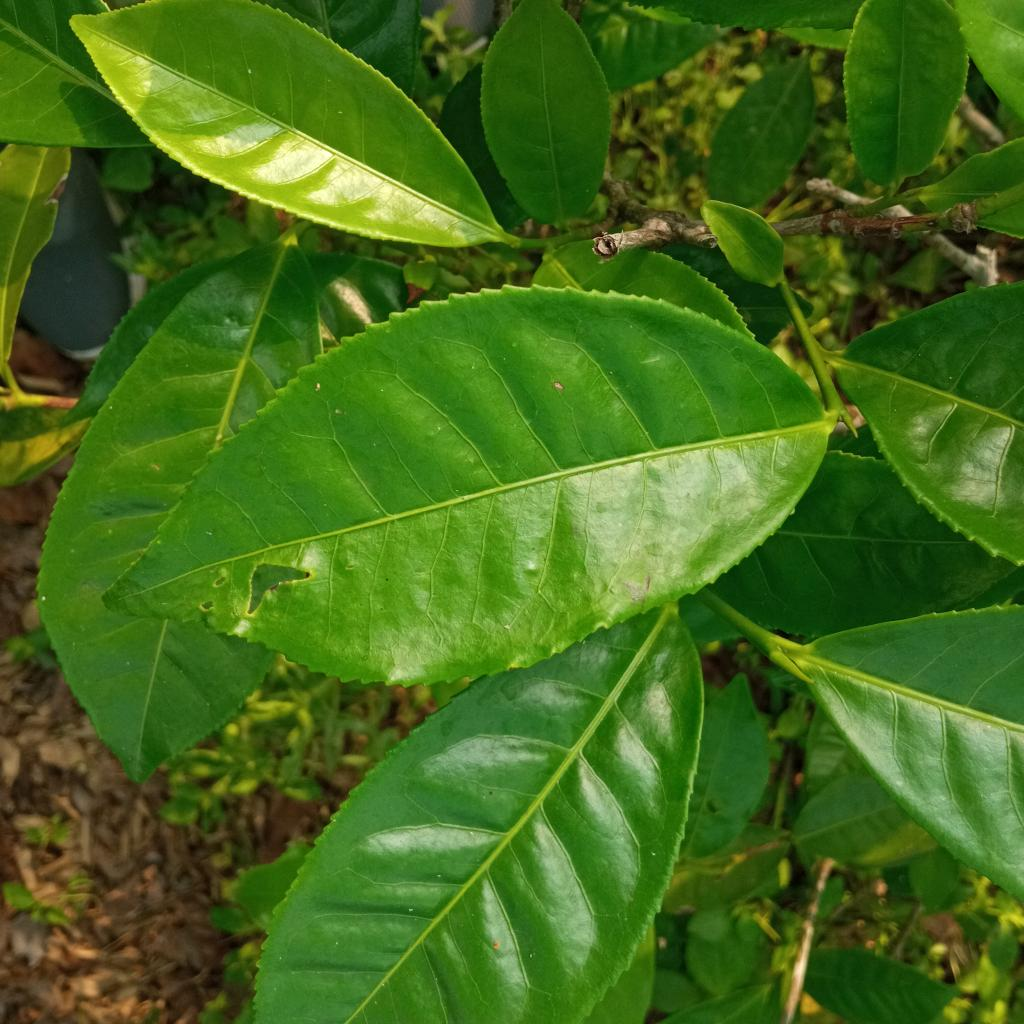Leaf-Hopper: (39, 202, 888, 772)
